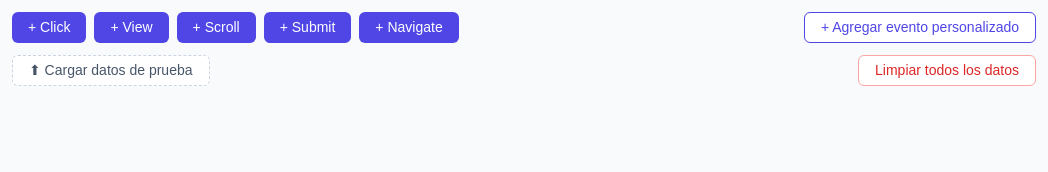
Test: Quick add buttons › shows action error when postEvent rejects on quick add
Click the button "+ Click" at (49, 27), box [12,12,86,43]
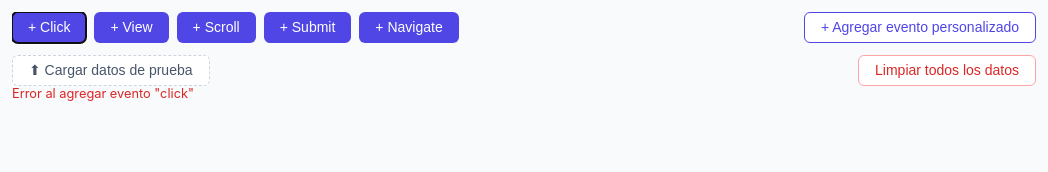
Now the text "Error al agregar evento \"click\"" is shown, box [12,86,194,101]
